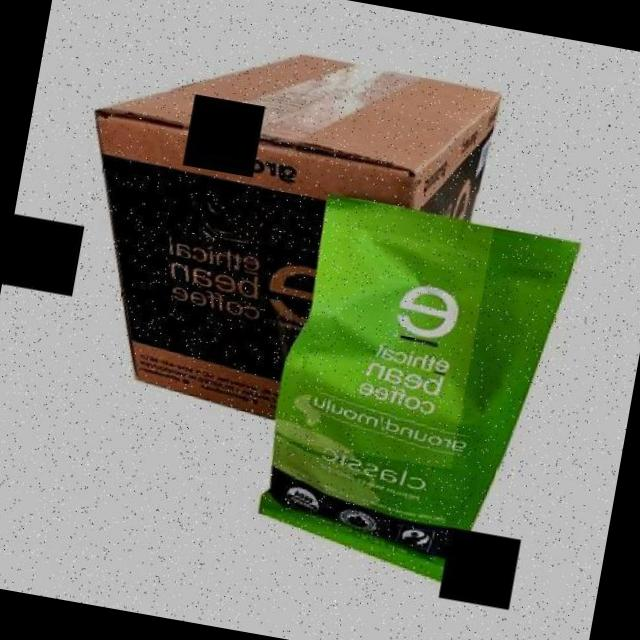box: (26, 0, 521, 469)
